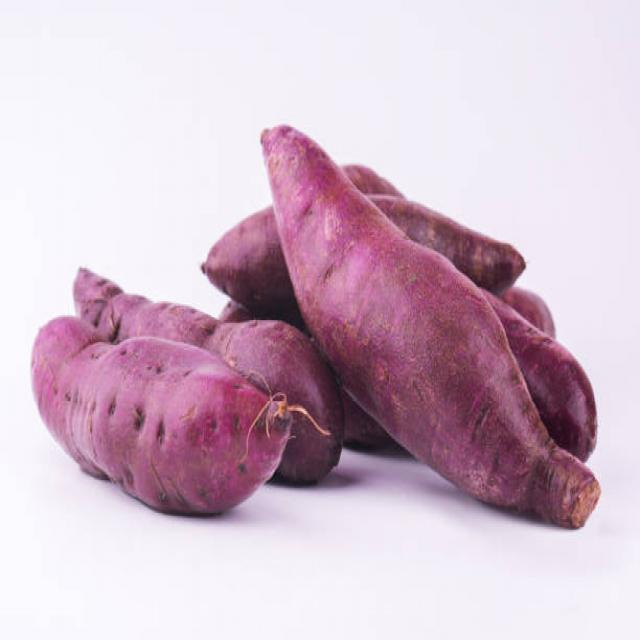Sweet Potato: (258, 116, 601, 532), (26, 312, 292, 522)
